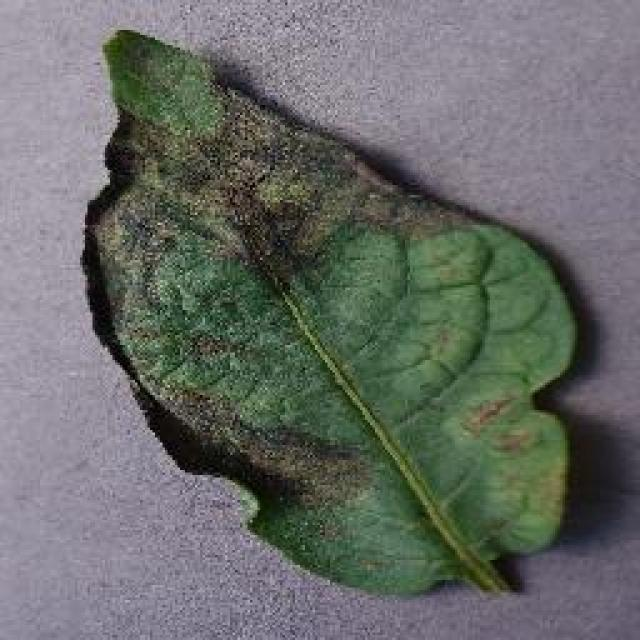Late_blight: (57, 78, 508, 361), (110, 378, 393, 552)
